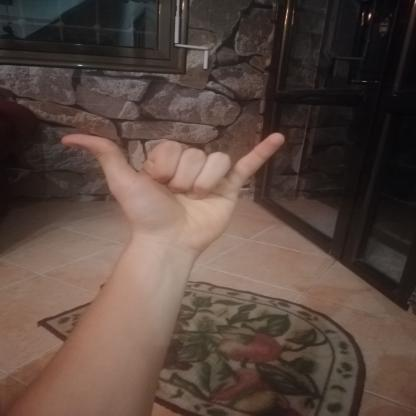YA: (47, 115, 302, 262)
